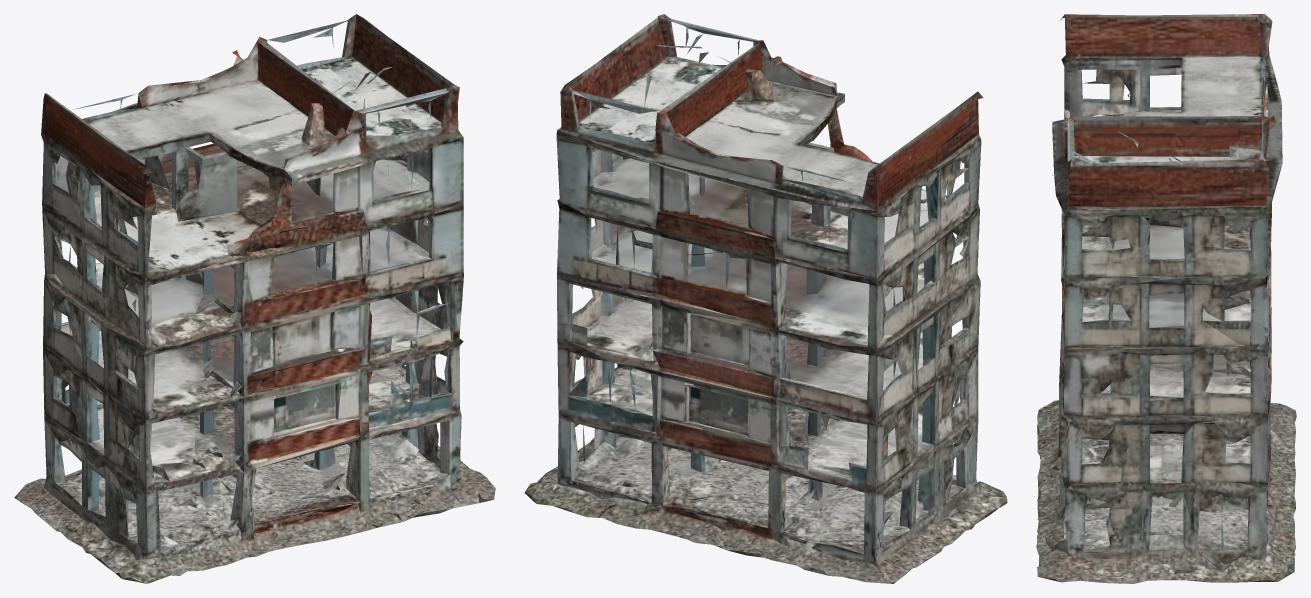
Rendered from skeleton_block.glb.
The picture shows the model from 3 angles, left to right: view 1: azimuth 30°, elevation 25°; view 2: azimuth 150°, elevation 25°; view 3: azimuth 270°, elevation 25°; orthographic projection.
Parts seen in each view (by area): view 1: skeleton_block; view 2: skeleton_block; view 3: skeleton_block.
Part boxes in pixels (bbox=[...]): skeleton_block: bbox=[14, 14, 495, 583]; skeleton_block: bbox=[524, 14, 1007, 583]; skeleton_block: bbox=[1036, 14, 1296, 583].
Bounding box in the file's own units: 1.82 × 1.9 × 1.1.
Materials: 1 (1 with a texture image).
